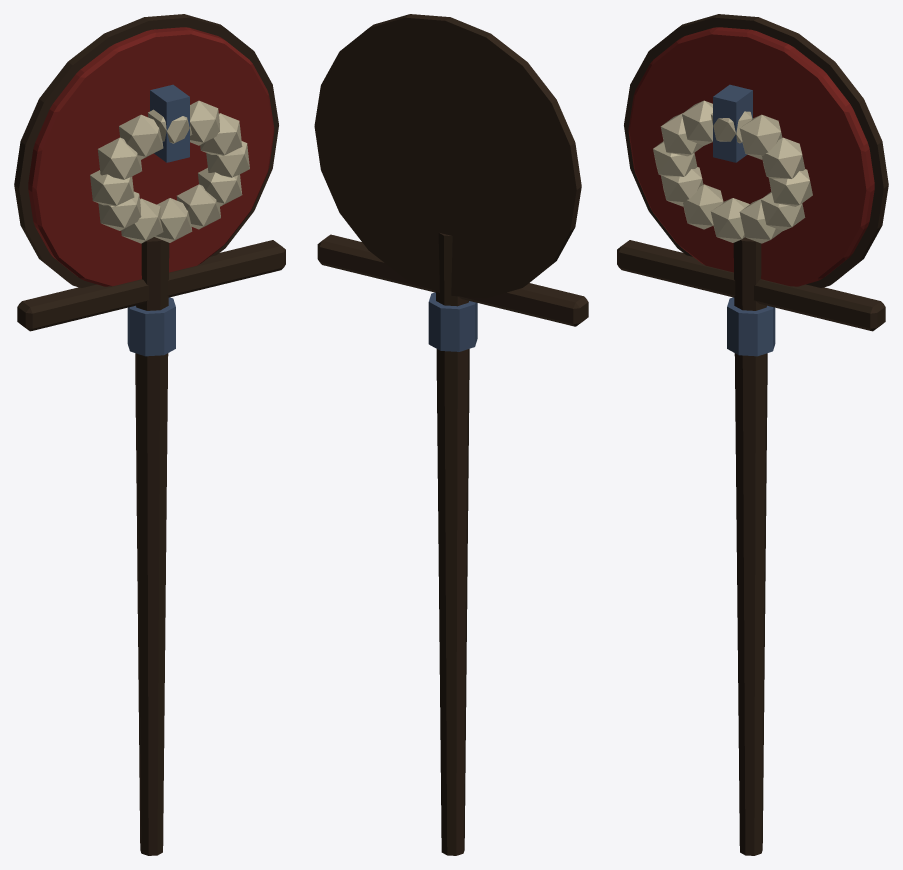
Rendered from sign_wool.glb.
3 renders of one model, left to right at view 1: azimuth 30°, elevation 25°; view 2: azimuth 150°, elevation 25°; view 3: azimuth 330°, elevation 25°, orthographic.
Visible parts, largest first — view 1: sign_wool; view 2: sign_wool; view 3: sign_wool.
Boxes of the visible parts, <box> form: sign_wool: <box>14,14,285,855</box>; sign_wool: <box>314,14,588,855</box>; sign_wool: <box>617,14,888,855</box>.
Size of the model in its own units: 1.39 by 4.25 by 0.3856.
